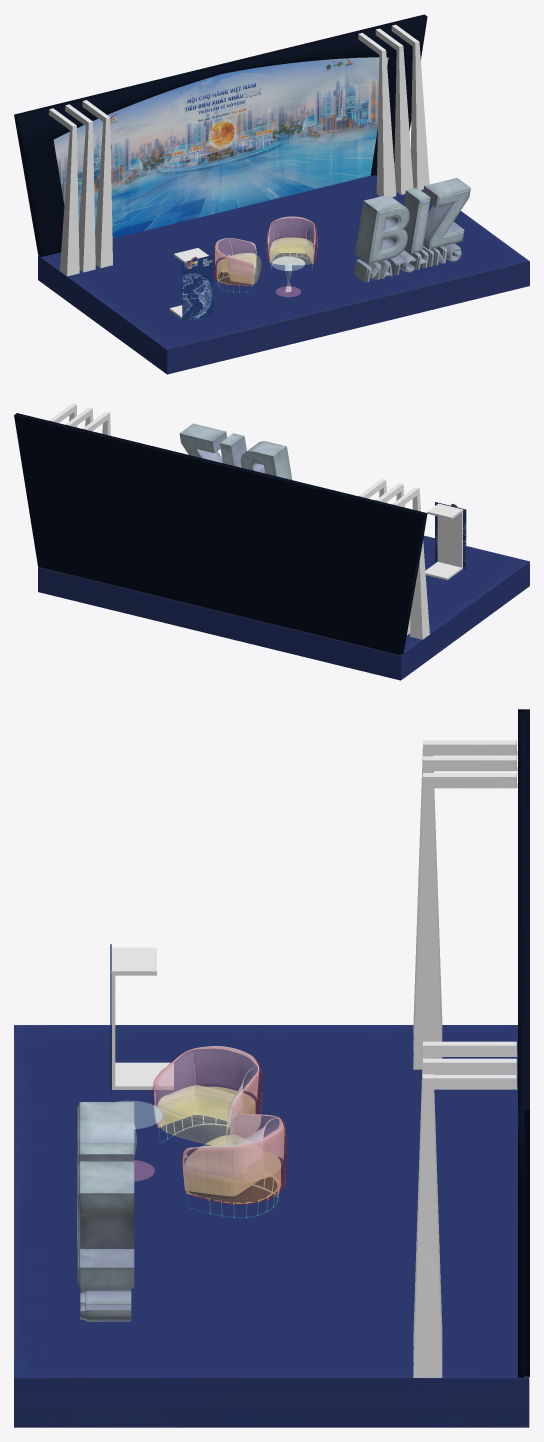
File: sankhau-transformed.glb
3 views of the same model, one above another, from view 1: azimuth 30°, elevation 25°; view 2: azimuth 150°, elevation 25°; view 3: azimuth 270°, elevation 25° (orthographic). The views are drawn at different scales.
Parts seen in each view (by area): view 1: KV LED, texture, ghe; view 2: KV LED, texture; view 3: KV LED, ghe, texture.
Part boxes in pixels (x1,y1,x2,y2): KV LED: [14, 14, 529, 374]; texture: [353, 178, 470, 282]; ghe: [213, 216, 317, 296]; KV LED: [14, 403, 529, 680]; texture: [179, 423, 292, 479]; KV LED: [14, 709, 529, 1427]; ghe: [117, 1046, 286, 1218]; texture: [77, 1102, 134, 1321].
Bounding box in the file's own units: 7.3 × 2.91 × 3.98.
5 materials, 5 textured.
